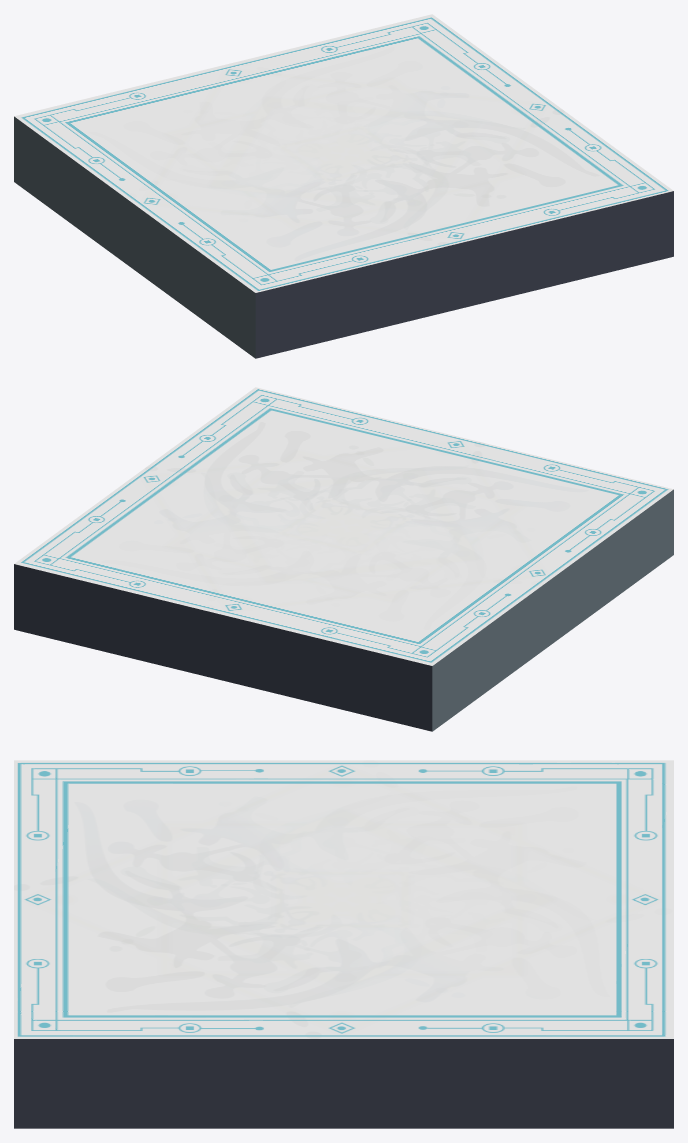
Rendered from playboard.fbx.
3 renders of one model, top to bottom at view 1: azimuth 30°, elevation 25°; view 2: azimuth 150°, elevation 25°; view 3: azimuth 270°, elevation 25°, orthographic. The views are drawn at different scales.
Parts seen in each view (by area): view 1: pCube1; view 2: pCube1; view 3: pCube1.
Boxes of the visible parts, x1=… form: pCube1: x1=14, y1=14, x2=673, y2=358; pCube1: x1=14, y1=387, x2=673, y2=731; pCube1: x1=14, y1=760, x2=673, y2=1128.
Size of the model in its own units: 10 by 1.5 by 10.
3 materials, 1 textured.
